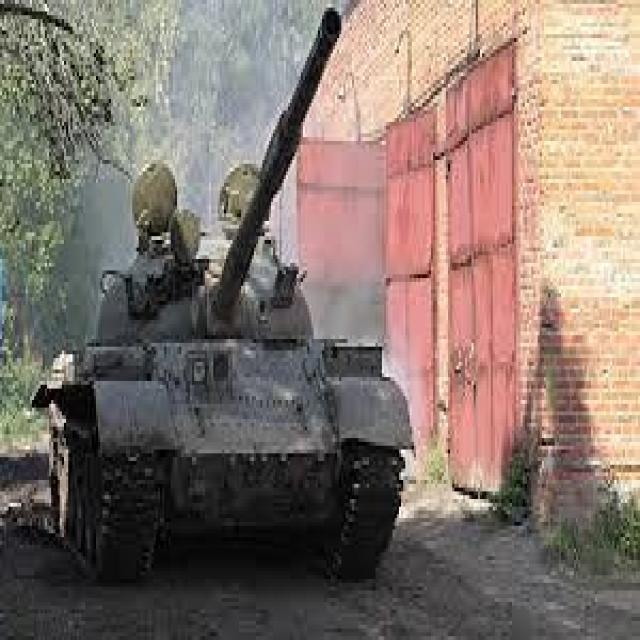MIL_MBT: (33, 4, 421, 606)
